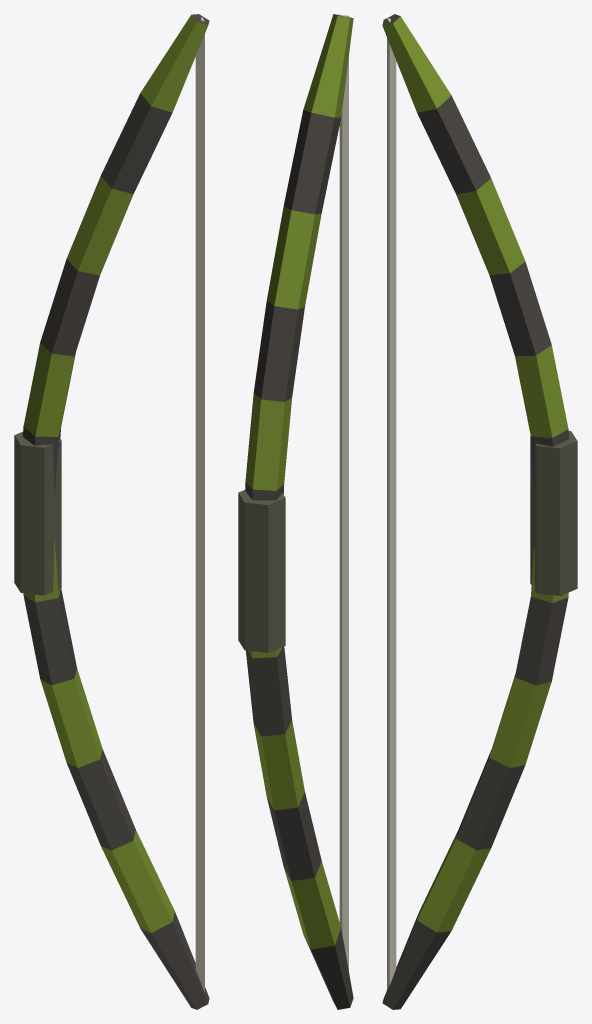
File: weapon_bow.glb
3 renders of one model, left to right at view 1: azimuth 90°, elevation 25°; view 2: azimuth 150°, elevation 25°; view 3: azimuth 270°, elevation 25°, orthographic.
Parts seen in each view (by area): view 1: ratfolk_weapon_bow; view 2: ratfolk_weapon_bow; view 3: ratfolk_weapon_bow.
Part boxes in pixels (x1,y1,x2,y2): ratfolk_weapon_bow: (14, 14, 209, 1009); ratfolk_weapon_bow: (238, 14, 353, 1009); ratfolk_weapon_bow: (382, 14, 577, 1009).
Size of the model in its own units: 0.0417 by 0.9681 by 0.1724.
